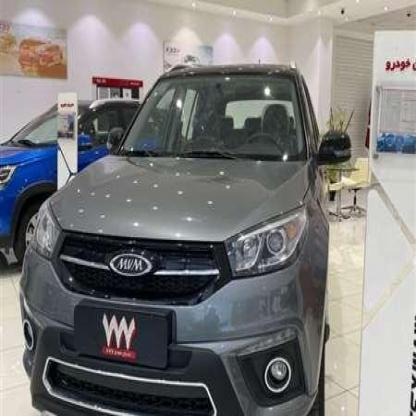Car: (32, 76, 338, 416), (0, 79, 135, 255)
